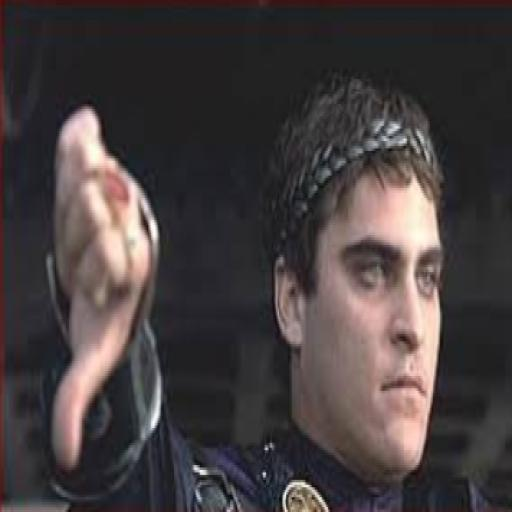Thumbs_Down: (27, 93, 191, 485)
